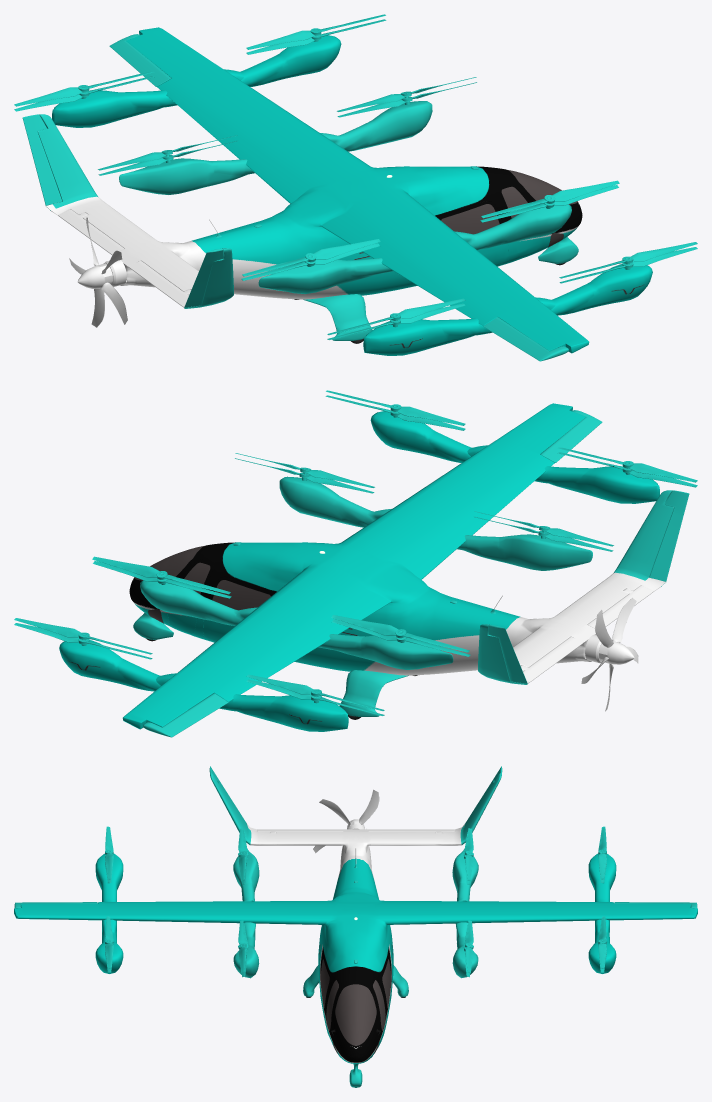
File: evtol.glb
3 renders of one model, top to bottom at view 1: azimuth 30°, elevation 25°; view 2: azimuth 150°, elevation 25°; view 3: azimuth 270°, elevation 25°, orthographic. The views are drawn at different scales.
Visible parts, largest first — view 1: Fuselagem_3, Propellers_2, Trem de pouso_4, Vidros_0, Bk.Propeller_1; view 2: Fuselagem_3, Propellers_2, Trem de pouso_4, Vidros_0, Bk.Propeller_1; view 3: Fuselagem_3, Propellers_2, Vidros_0, Trem de pouso_4, Bk.Propeller_1.
Boxes of the visible parts, <box> form: Fuselagem_3: <box>22,27,652,361</box>; Propellers_2: <box>14,14,697,339</box>; Trem de pouso_4: <box>294,237,578,343</box>; Vidros_0: <box>441,170,577,247</box>; Bk.Propeller_1: <box>69,217,127,327</box>; Fuselagem_3: <box>59,403,689,737</box>; Propellers_2: <box>14,390,697,715</box>; Trem de pouso_4: <box>133,613,417,719</box>; Vidros_0: <box>134,546,270,623</box>; Bk.Propeller_1: <box>581,598,638,711</box>; Fuselagem_3: <box>14,766,697,1063</box>; Propellers_2: <box>105,826,606,977</box>; Vidros_0: <box>320,959,391,1054</box>; Trem de pouso_4: <box>303,965,408,1087</box>; Bk.Propeller_1: <box>313,789,379,853</box>.
Bounding box in the file's own units: 8.46 × 3.03 × 12.59.
Materials: 9 (1 with a texture image).
